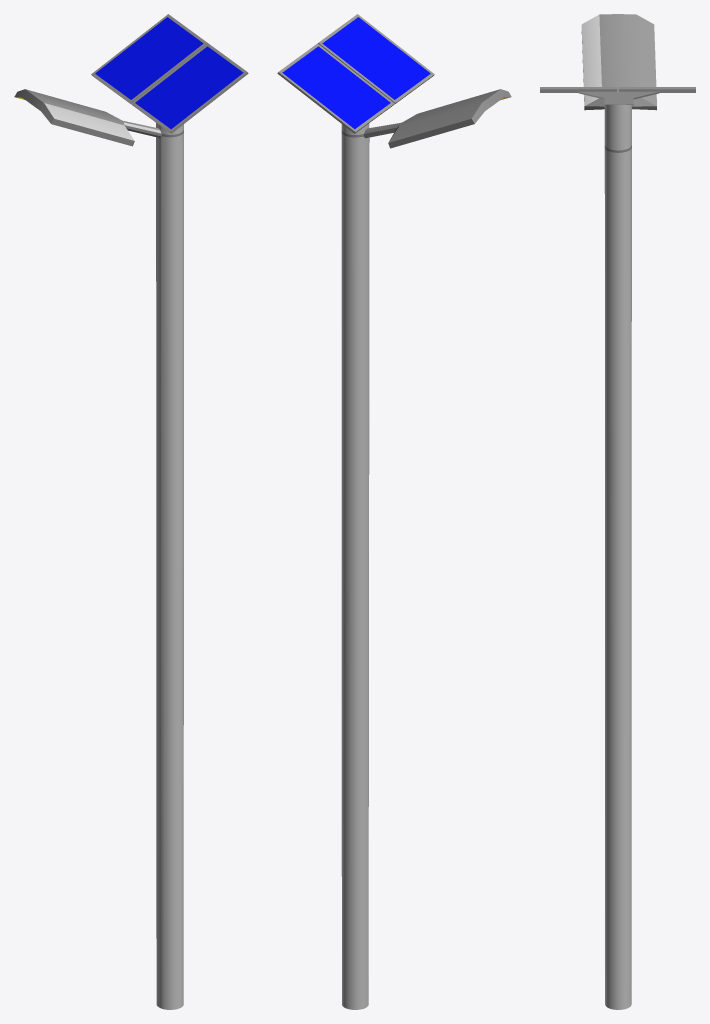
File: streetlight sgl.fbx
The picture shows the model from 3 angles, left to right: view 1: azimuth 30°, elevation 25°; view 2: azimuth 150°, elevation 25°; view 3: azimuth 270°, elevation 25°; orthographic projection.
Visible parts, largest first — view 1: Cylinder; view 2: Cylinder; view 3: Cylinder.
Part boxes in pixels (x1,y1,x2,y2): Cylinder: [14, 14, 248, 1009]; Cylinder: [277, 14, 511, 1009]; Cylinder: [540, 14, 695, 1009].
Size of the model in its own units: 145 by 744 by 112.
